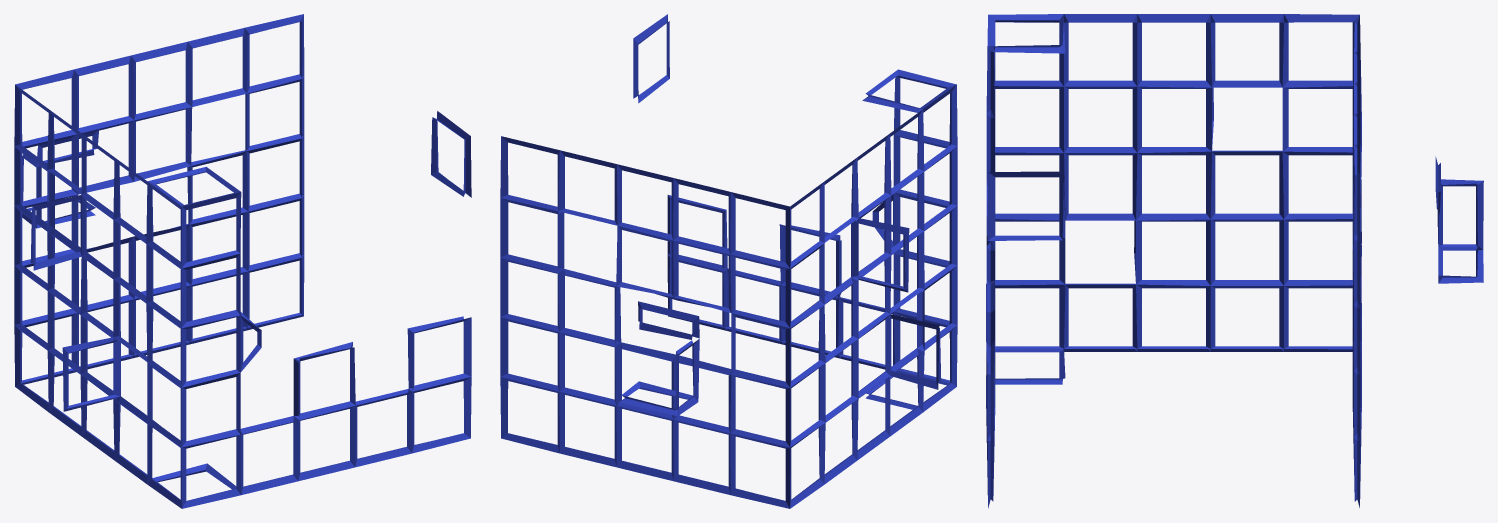
The model's file is psyk03.obj.
3 renders of one model, left to right at view 1: azimuth 30°, elevation 25°; view 2: azimuth 150°, elevation 25°; view 3: azimuth 270°, elevation 25°, orthographic. The views are drawn at different scales.
Parts seen in each view (by area): view 1: Cube; view 2: Cube; view 3: Cube.
Boxes of the visible parts, box(x1,y1,x2,y2) form: Cube: box(14, 14, 471, 508); Cube: box(500, 14, 957, 508); Cube: box(986, 14, 1483, 508).
Bounding box in the file's own units: 2.39 × 2.05 × 2.72.
